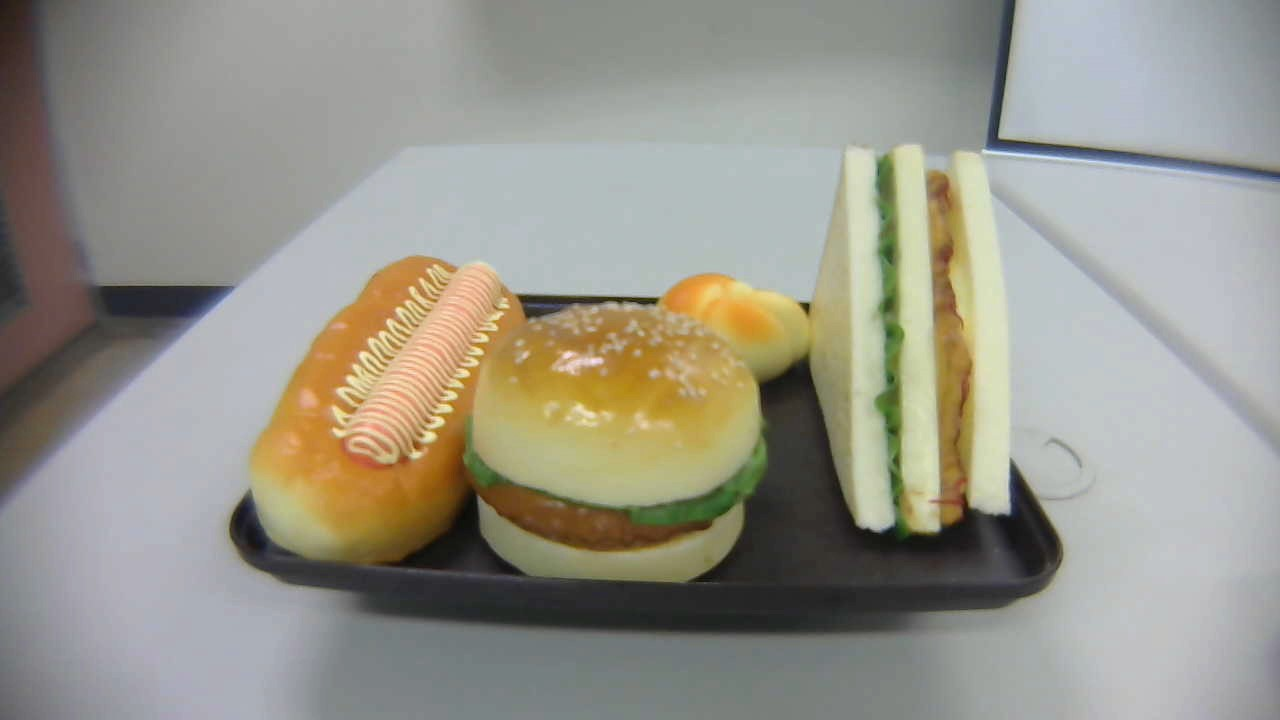hamburger: (464, 302, 773, 587)
hot dog: (248, 253, 528, 568)
sandwich: (804, 142, 1012, 538)
twist bread: (656, 273, 808, 385)
